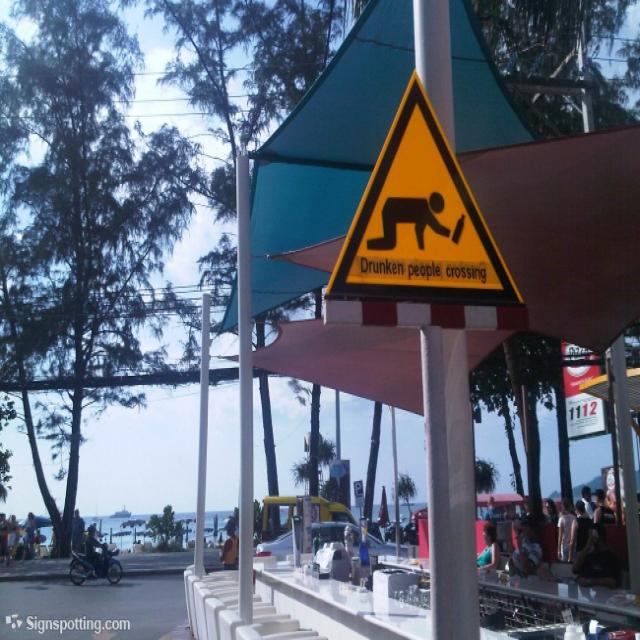body: (570, 520, 624, 639), (503, 516, 545, 577), (517, 494, 545, 565), (597, 487, 640, 532), (567, 501, 594, 564), (557, 497, 578, 564), (475, 522, 502, 574), (83, 524, 106, 584), (0, 512, 20, 570), (219, 520, 240, 572), (356, 536, 374, 594), (68, 507, 86, 561), (591, 488, 616, 524), (579, 485, 599, 523), (22, 511, 36, 559), (482, 495, 506, 522), (544, 498, 560, 524), (312, 535, 319, 558), (218, 531, 224, 544)
